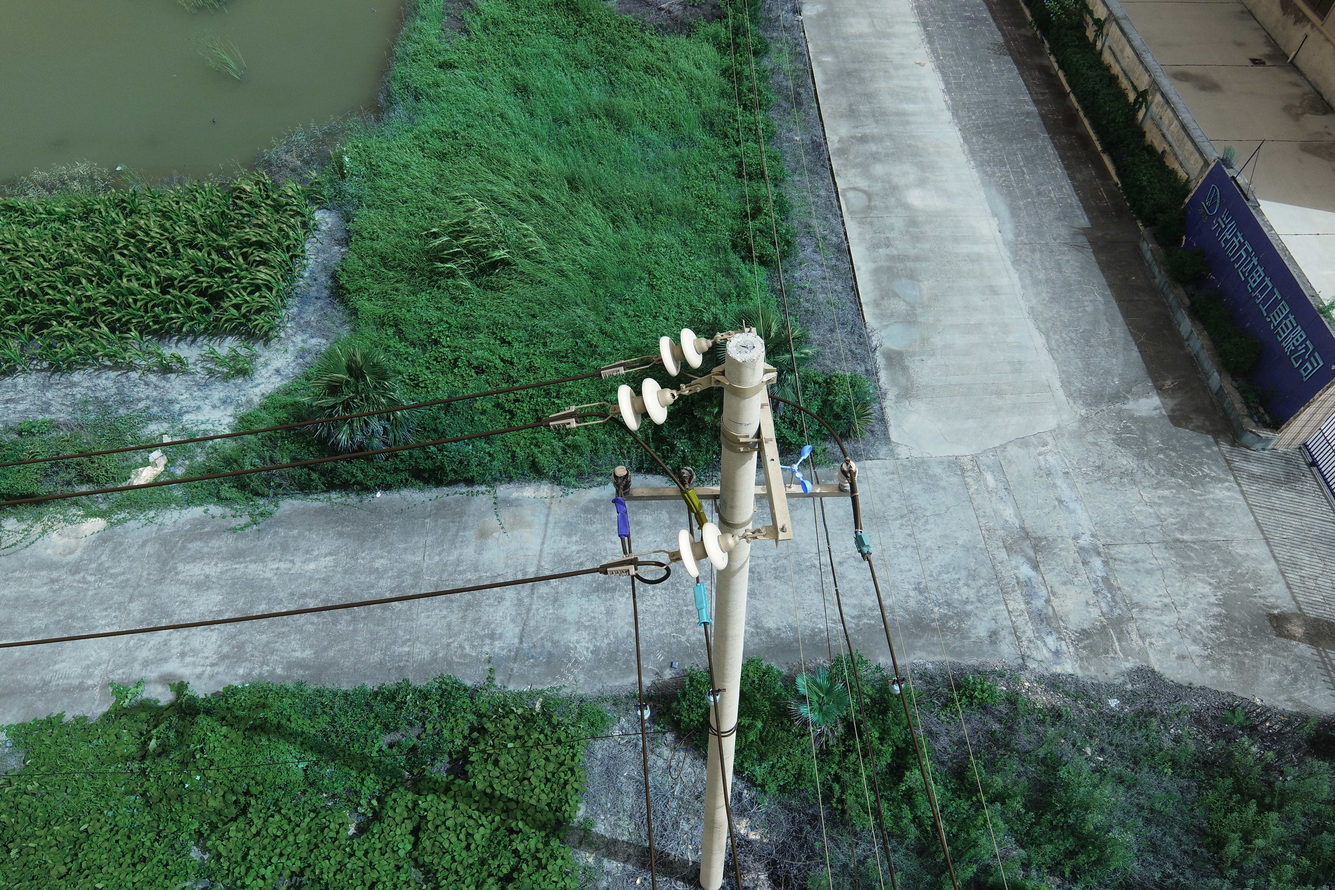severe_soiling_no_discharge_whole: (609, 466, 633, 496), (677, 466, 698, 490)
